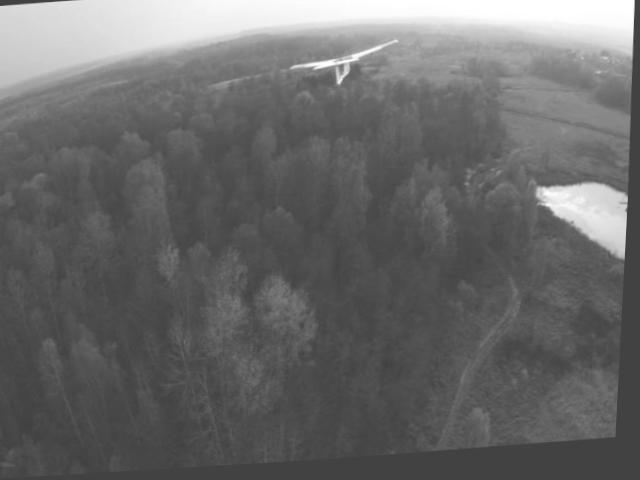hedef: (283, 34, 409, 105)
